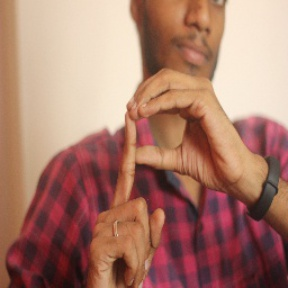P: (81, 66, 238, 270)
